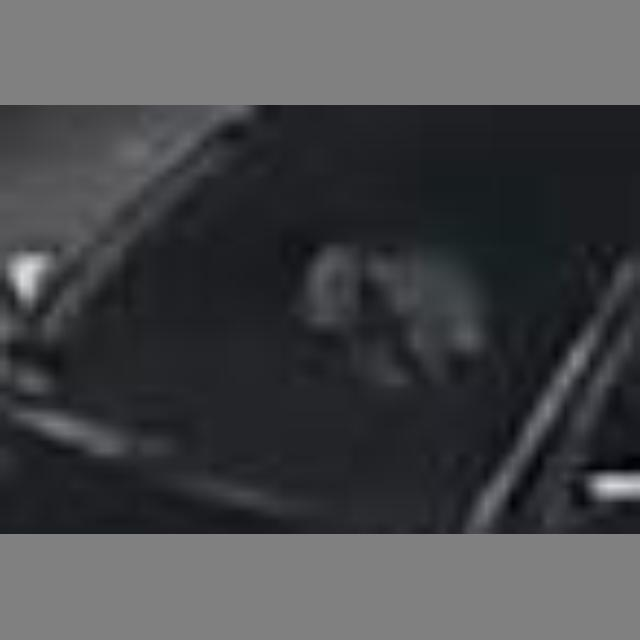pakai: (254, 210, 500, 421)
